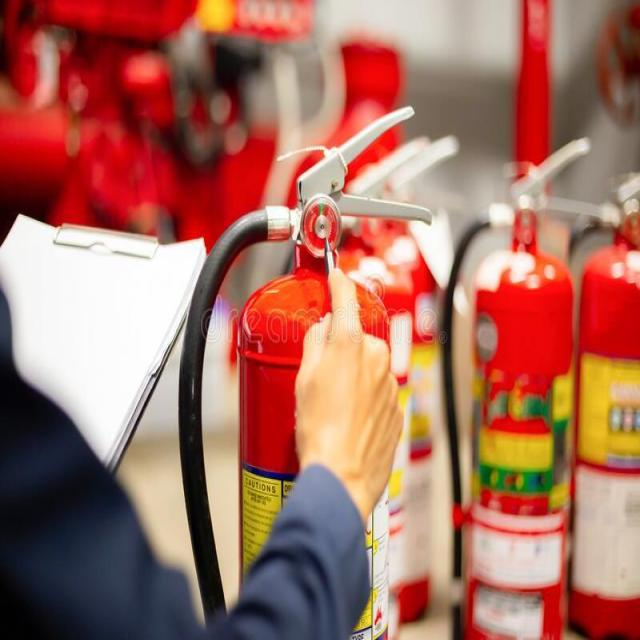fire_extinguisher: (174, 102, 433, 639), (436, 133, 610, 639), (560, 157, 639, 639)
